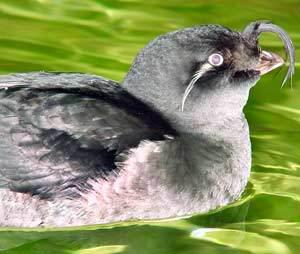005.Crested_Auklet: (2, 19, 296, 229)
